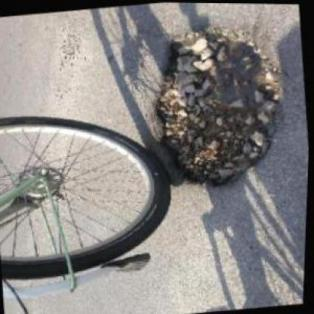Hueco: (141, 17, 293, 195)
